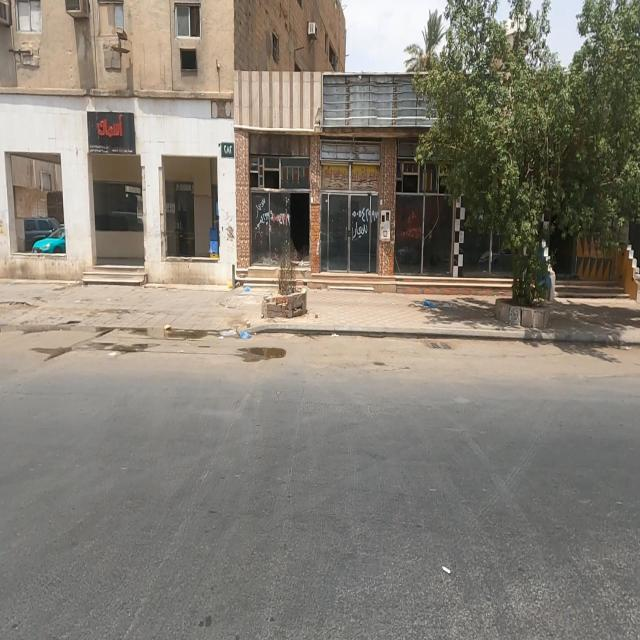Graffiti: (255, 197, 289, 242), (351, 210, 380, 243), (398, 212, 422, 246)
